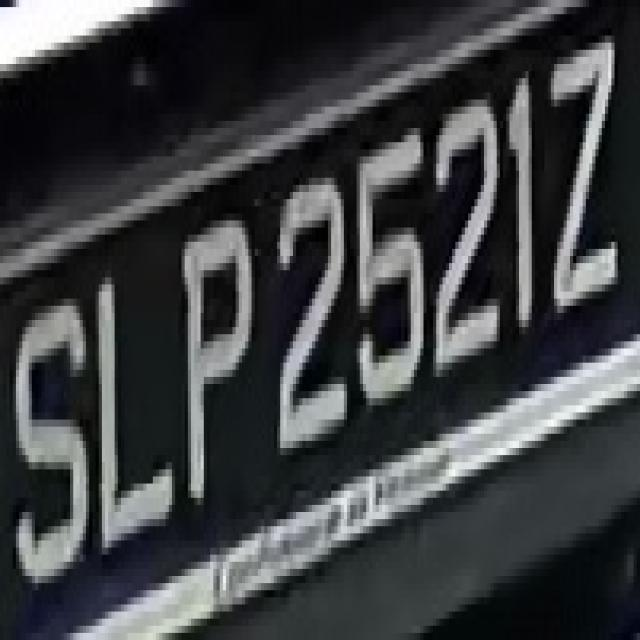1: (500, 35, 544, 362)
2: (258, 150, 344, 462), (430, 85, 506, 398)
5: (350, 100, 433, 427)
L: (89, 249, 175, 569)
P: (166, 213, 254, 512)
S: (6, 284, 86, 569)
Z: (545, 36, 624, 334)
